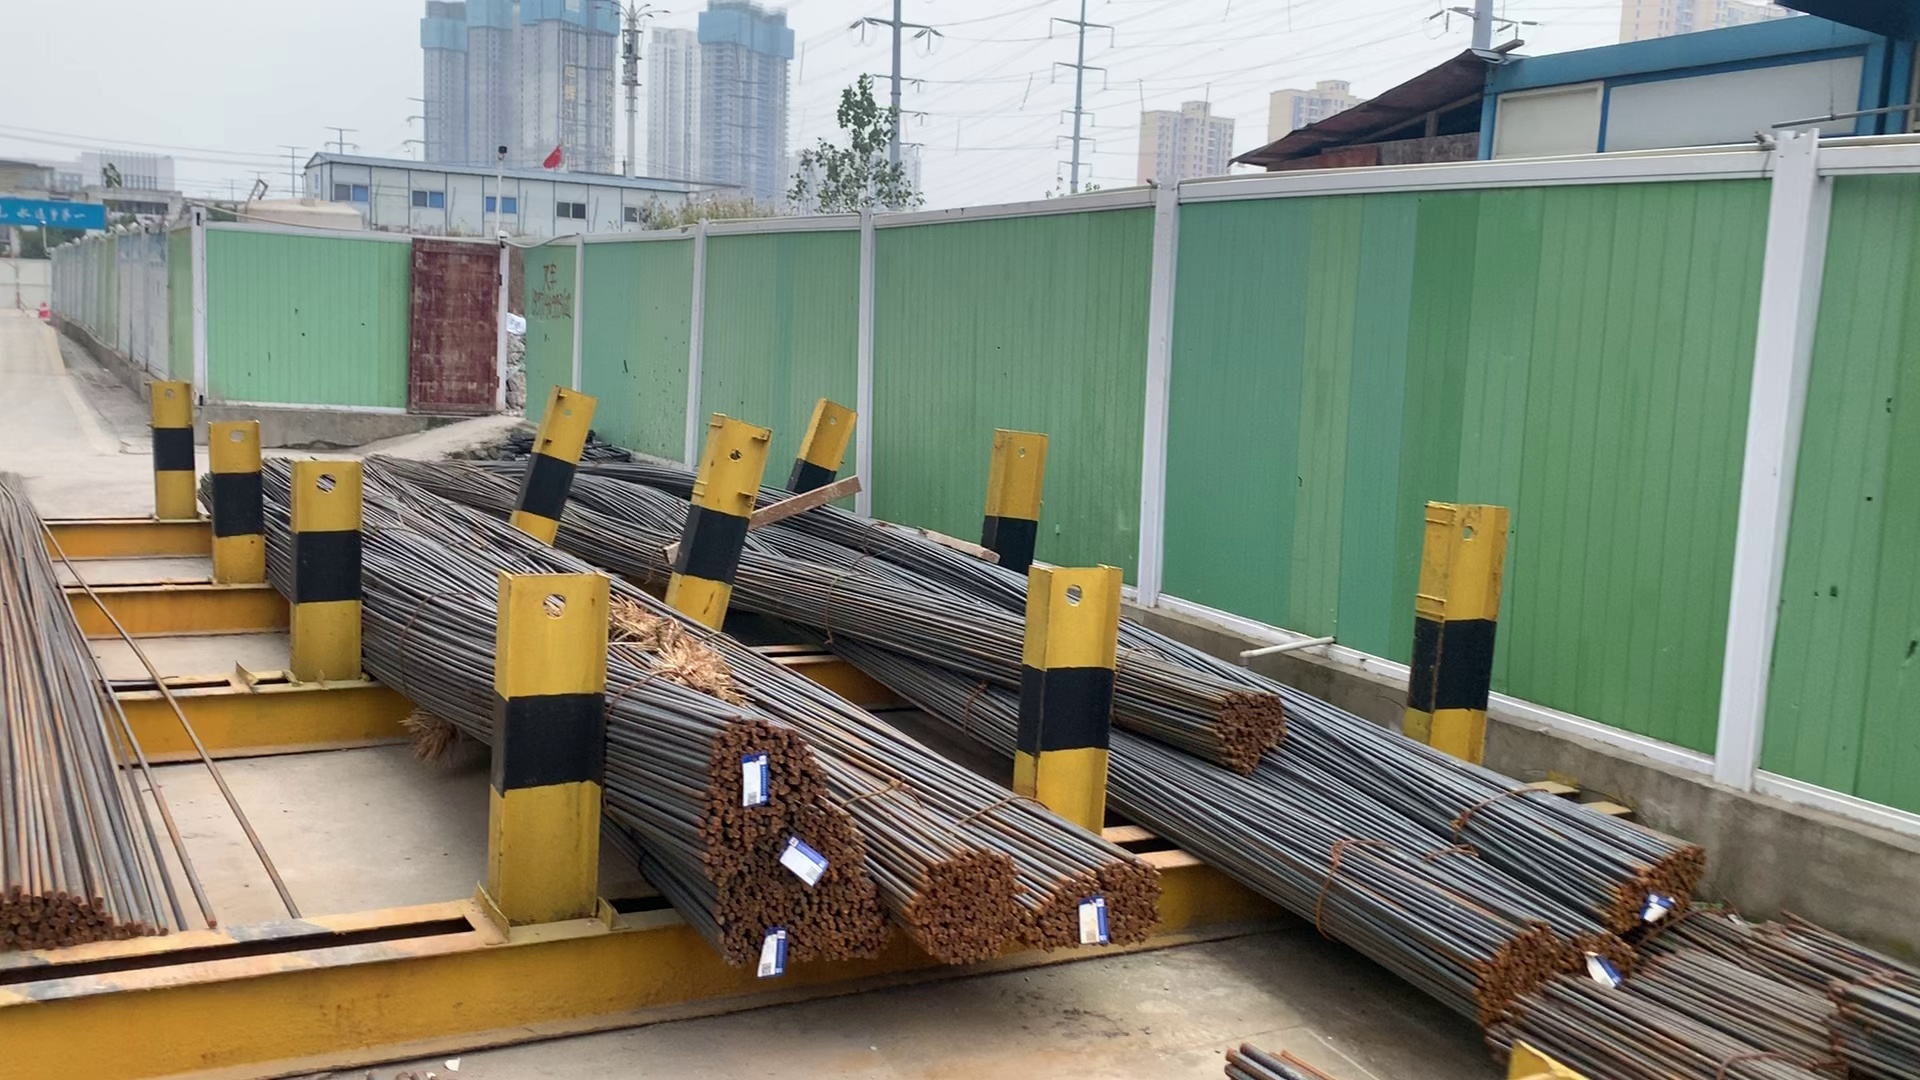rebar: (712, 814, 887, 957), (702, 717, 812, 857), (1034, 853, 1162, 948), (910, 852, 1023, 957), (1592, 833, 1712, 923), (3, 880, 154, 945), (1466, 918, 1556, 1014), (1207, 687, 1291, 775), (1561, 923, 1646, 980)
